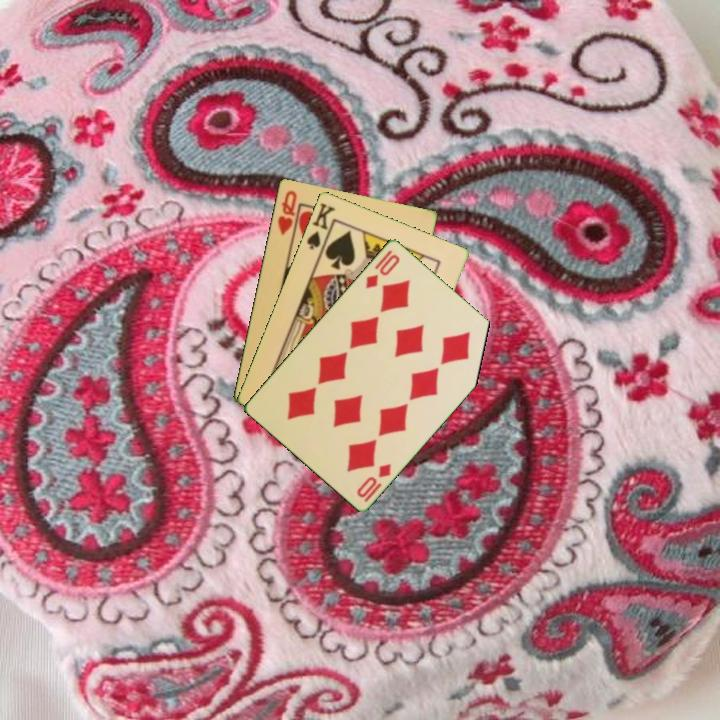10d: (353, 460, 394, 505), (362, 250, 403, 291)
Ks: (303, 199, 338, 252)
Qh: (274, 186, 299, 238)
